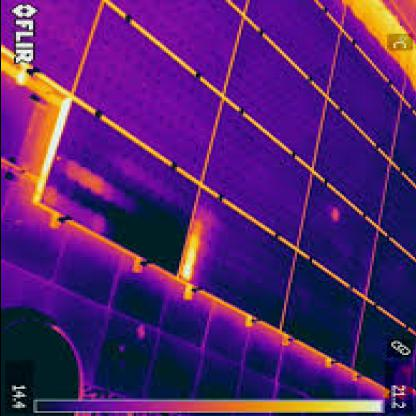Defects: (174, 230, 206, 284)
